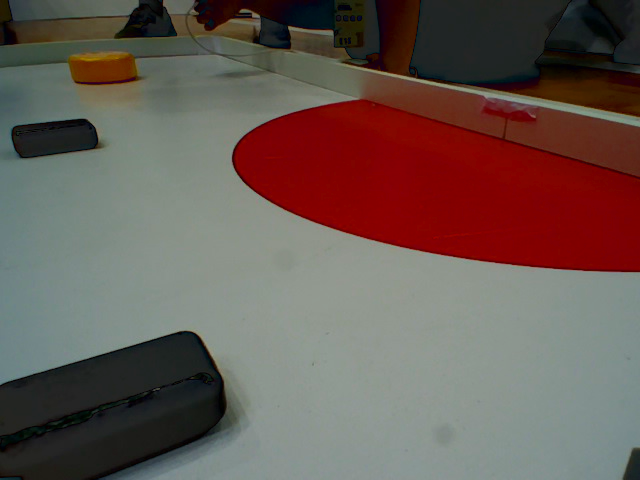black: (1, 329, 227, 478), (13, 116, 100, 160)
yellow: (67, 48, 136, 84)
